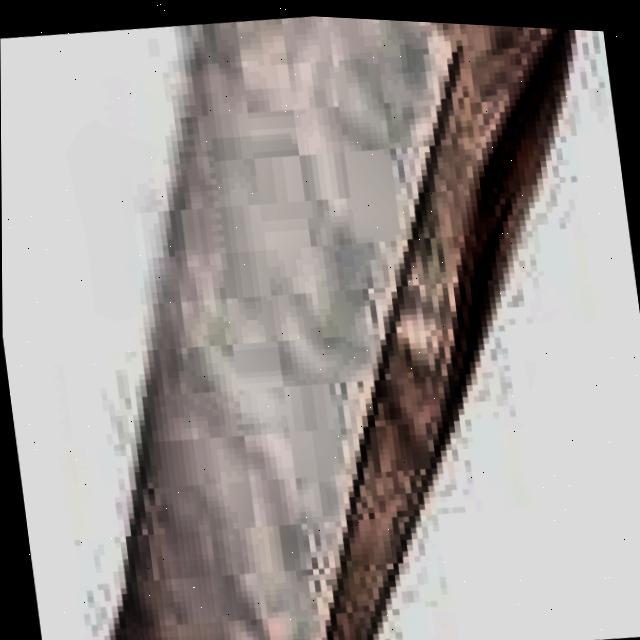paper: (105, 12, 567, 640)
